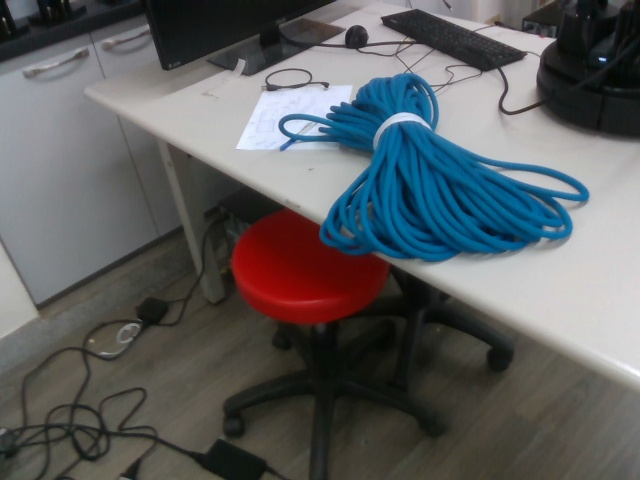rope: (275, 71, 592, 264)
